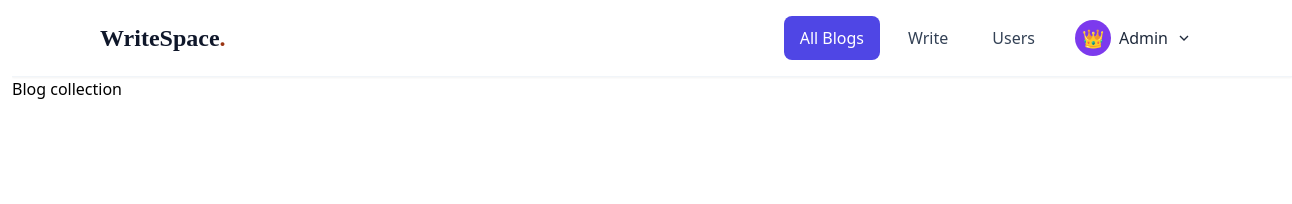
offers admin Users and role-home navigation
Click the link "Users". click: (1014, 38)
box: [992, 27, 1035, 49]
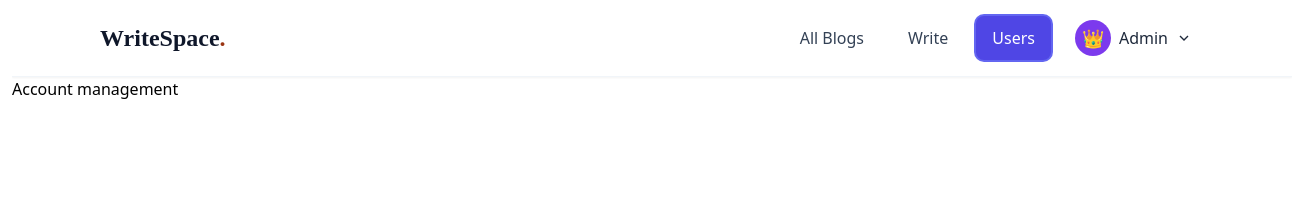
Expected: the heading reads "Account management", [12, 78, 178, 100]
Click the button with aria-label "Account options for Admin". click: (1134, 38)
box: [1063, 12, 1204, 64]
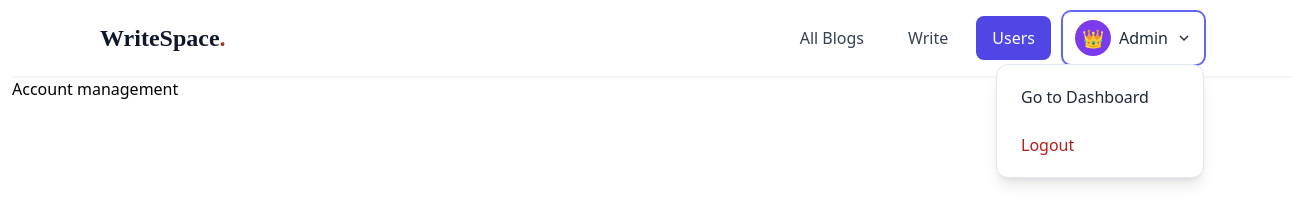
Click the link "Go to Dashboard". click: (1085, 97)
box: [1021, 86, 1149, 108]
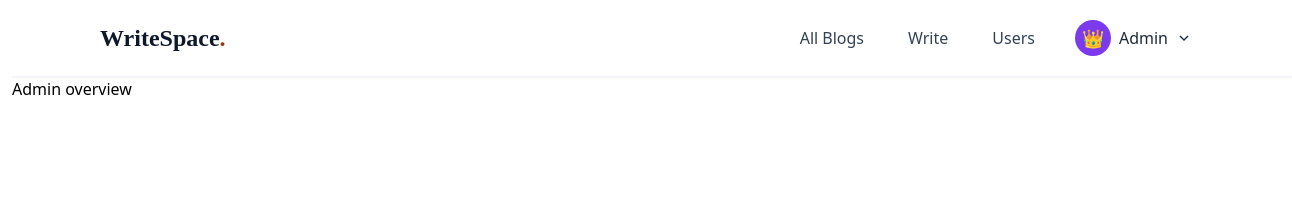
Expected: the heading reads "Admin overview", [12, 78, 132, 100]
